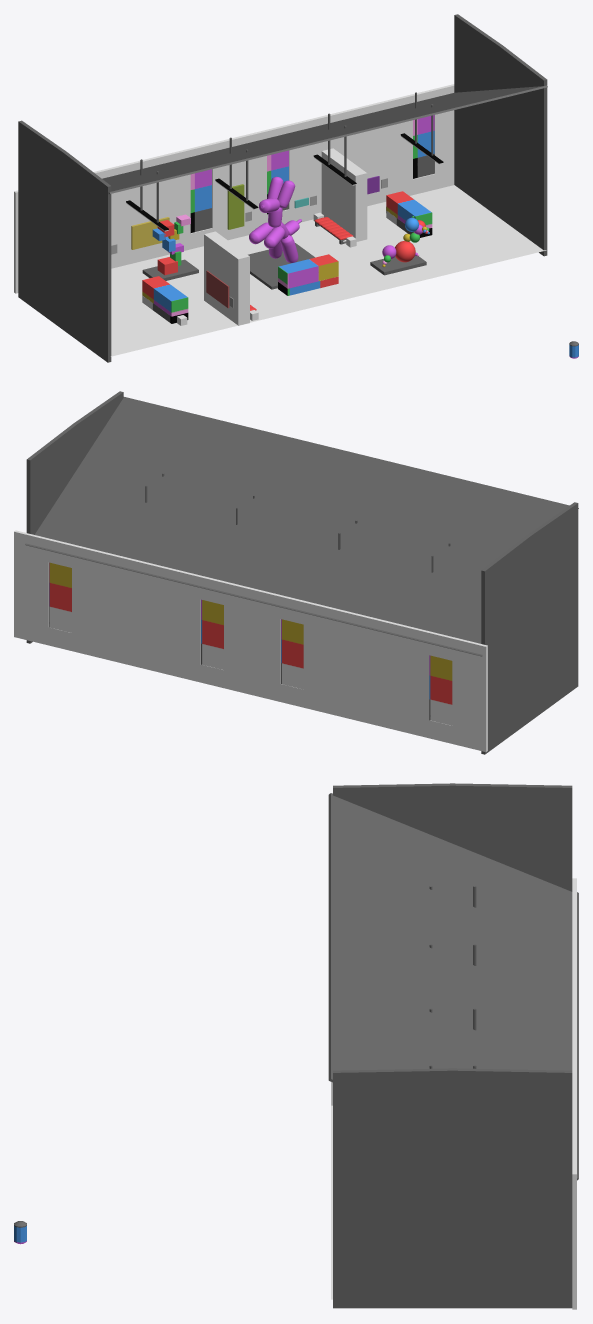
The model's file is museum-artgallerymesh(TEST).fbx.
3 views of the same model, one above another, from view 1: azimuth 30°, elevation 25°; view 2: azimuth 150°, elevation 25°; view 3: azimuth 270°, elevation 25° (orthographic). The views are drawn at different scales.
Visible parts, largest first — view 1: floor, artgallerymainwall, sidewall, sidewall1, ceiling, galleryWall2, galleryWall1, pCube57, window1, pCube55, maindisplaydesk, window3 (+8 smaller); view 2: ceiling, artgallerymainwall, sidewall, sidewall1, window, window3, window1, window2; view 3: sidewall1, ceiling, sidewall, artgallerymainwall.
Part boxes in pixels (x1,y1,x2,y2): floor: (111,185,546,356); artgallerymainwall: (14,84,454,293); sidewall: (18,120,111,362); sidewall1: (454,14,547,256); ceiling: (102,85,547,193); galleryWall2: (321,148,367,241); galleryWall1: (204,231,249,325); pCube57: (278,254,338,288); window1: (190,169,211,232); pCube55: (142,276,188,316); maindisplaydesk: (248,243,314,289); window3: (413,115,434,178); ceiling: (25,397,578,656); artgallerymainwall: (14,530,487,751); sidewall: (481,502,578,754); sidewall1: (26,391,123,643); window: (429,655,452,725); window3: (49,562,71,632); window1: (281,619,303,689); window2: (201,599,223,669); sidewall1: (333,1068,572,1308); ceiling: (328,793,578,1180); sidewall: (333,783,572,891); artgallerymainwall: (572,878,576,1309).
Size of the model in its own units: 150 by 56.39 by 121.
